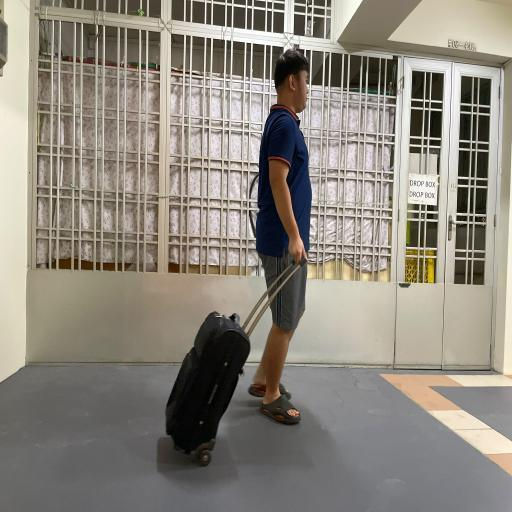person_right: (162, 40, 318, 480)
